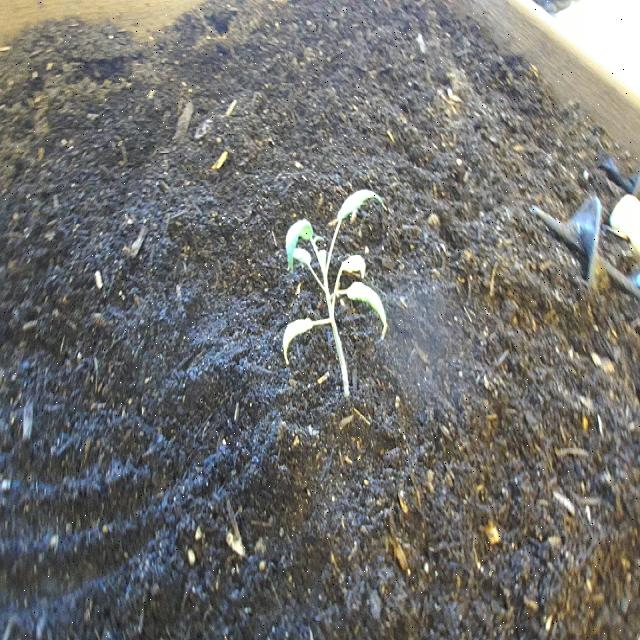Healthy: (284, 184, 390, 406)
